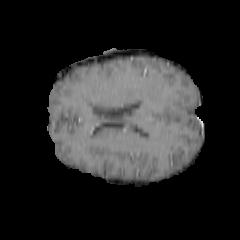glioma: (83, 83, 163, 106)
